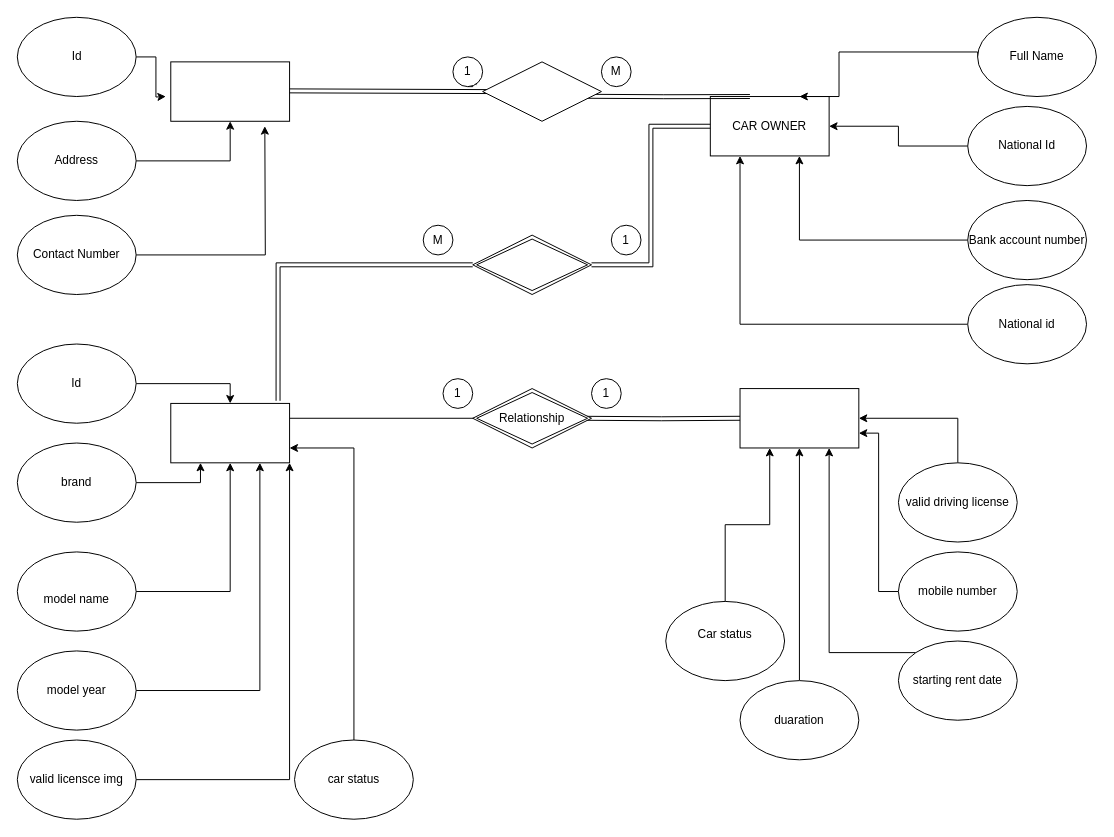
Image size: 1114x837. Some labels were removed from this diagram. The centre of each missing label's shape, as x and y in pixels:
"CAR" goes at point (230, 432).
"OFFICE" goes at point (230, 91).
"own" goes at point (532, 264).
"Register" goes at point (541, 91).
"TENANT" goes at point (799, 418).
